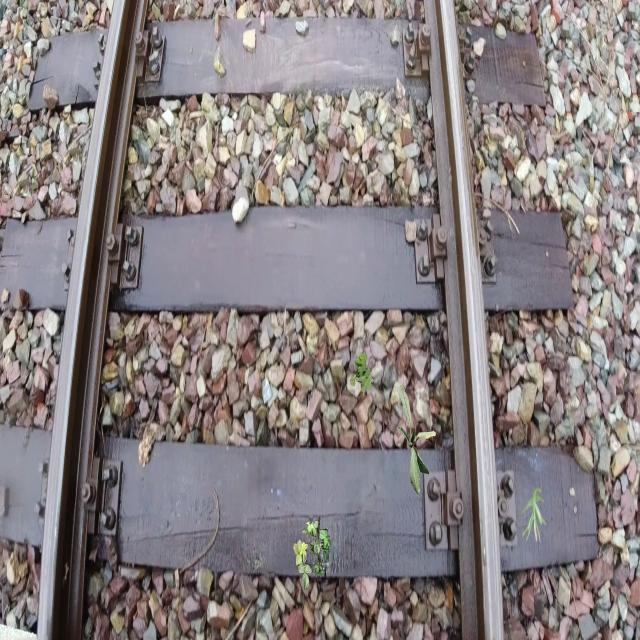Plant: (397, 385, 437, 495), (293, 517, 330, 590), (521, 487, 548, 544), (350, 353, 374, 394)
